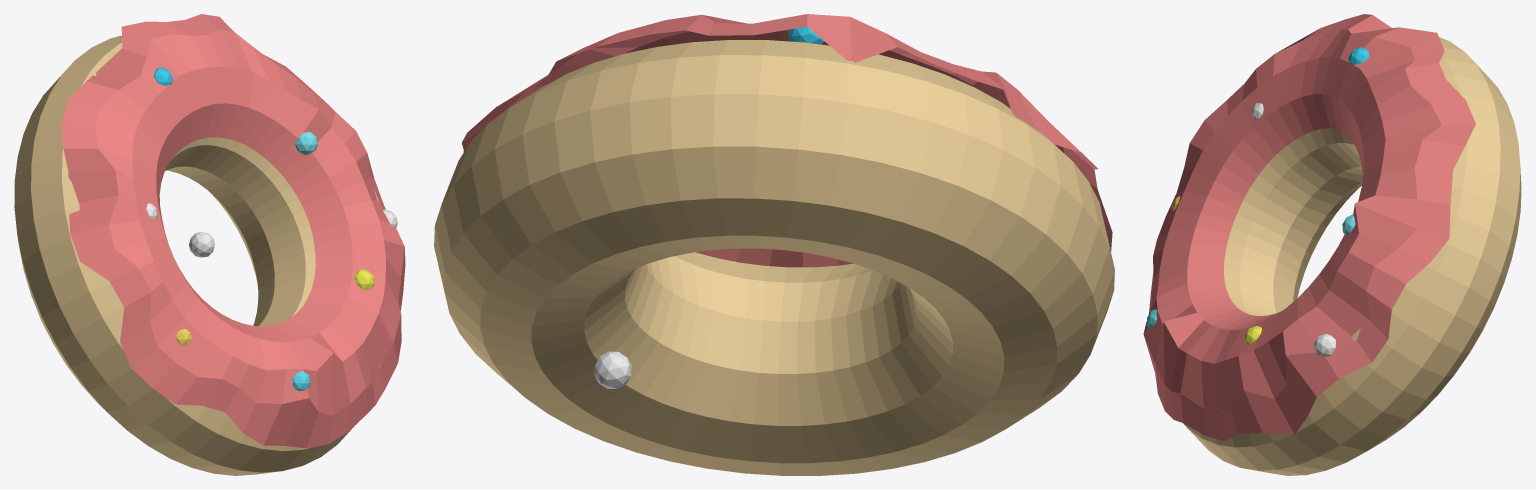
Rendered from donut.glb.
The picture shows the model from 3 angles, left to right: view 1: azimuth 30°, elevation 25°; view 2: azimuth 150°, elevation 25°; view 3: azimuth 270°, elevation 25°; orthographic projection. The views are drawn at different scales.
Parts seen in each view (by area): view 1: Torus.001, Torus, Icosphere.006; view 2: Torus, Torus.001, Icosphere.006; view 3: Torus.001, Torus, Icosphere.007.
Boxes of the visible parts, x1,y1,x2,y2 form: Torus.001: (61,14,405,448); Torus: (14,35,379,475); Icosphere.006: (189,232,214,257); Torus: (434,40,1114,475); Torus.001: (461,14,1112,267); Icosphere.006: (594,351,631,388); Torus.001: (1143,14,1475,441); Torus: (1183,28,1521,475); Icosphere.007: (1314,334,1335,356).
Bounding box in the file's own units: 2.75 × 2.58 × 2.28.
